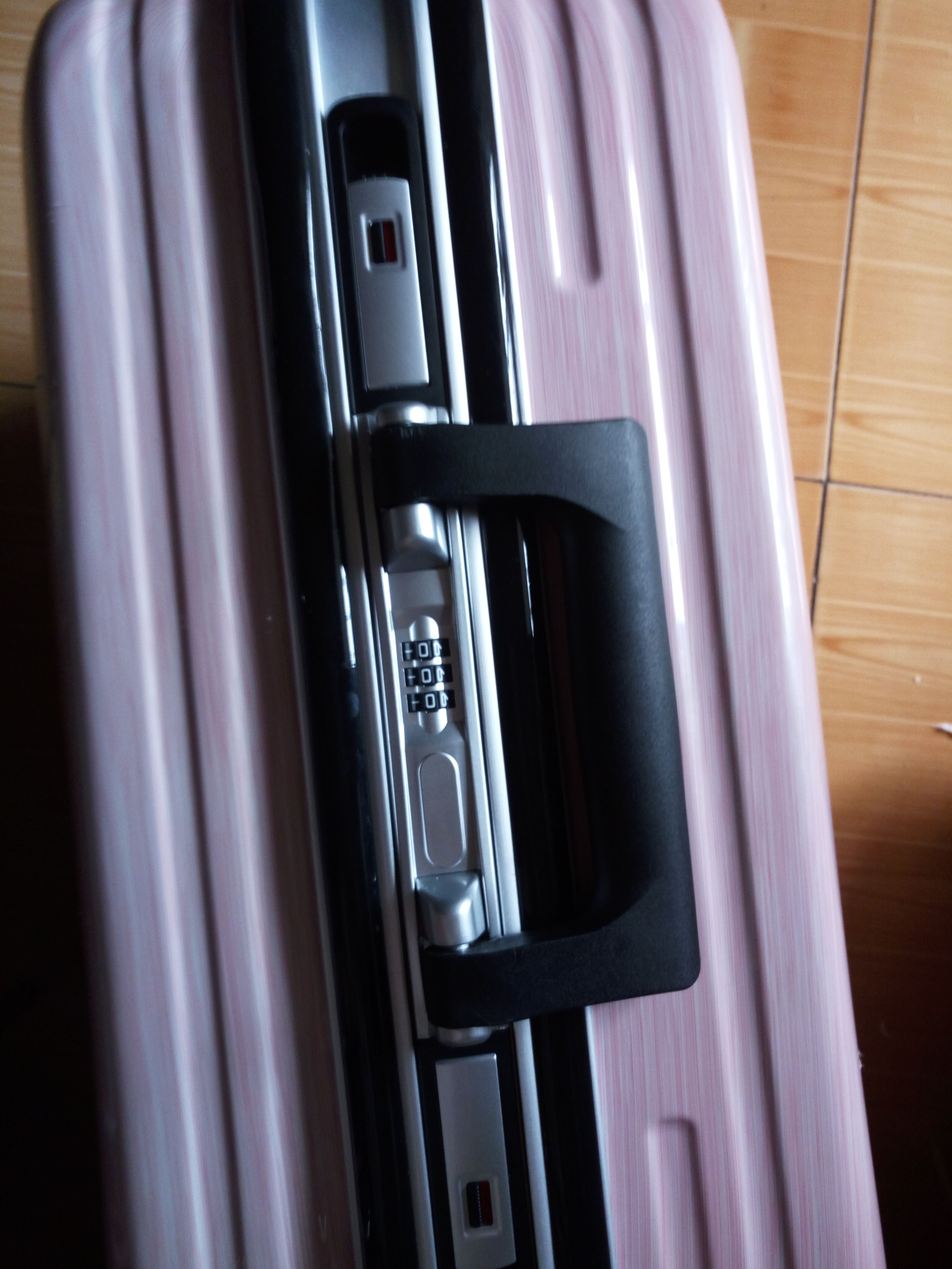box: (23, 3, 888, 1267)
handle: (321, 414, 703, 1031)
lock: (382, 579, 479, 752)
